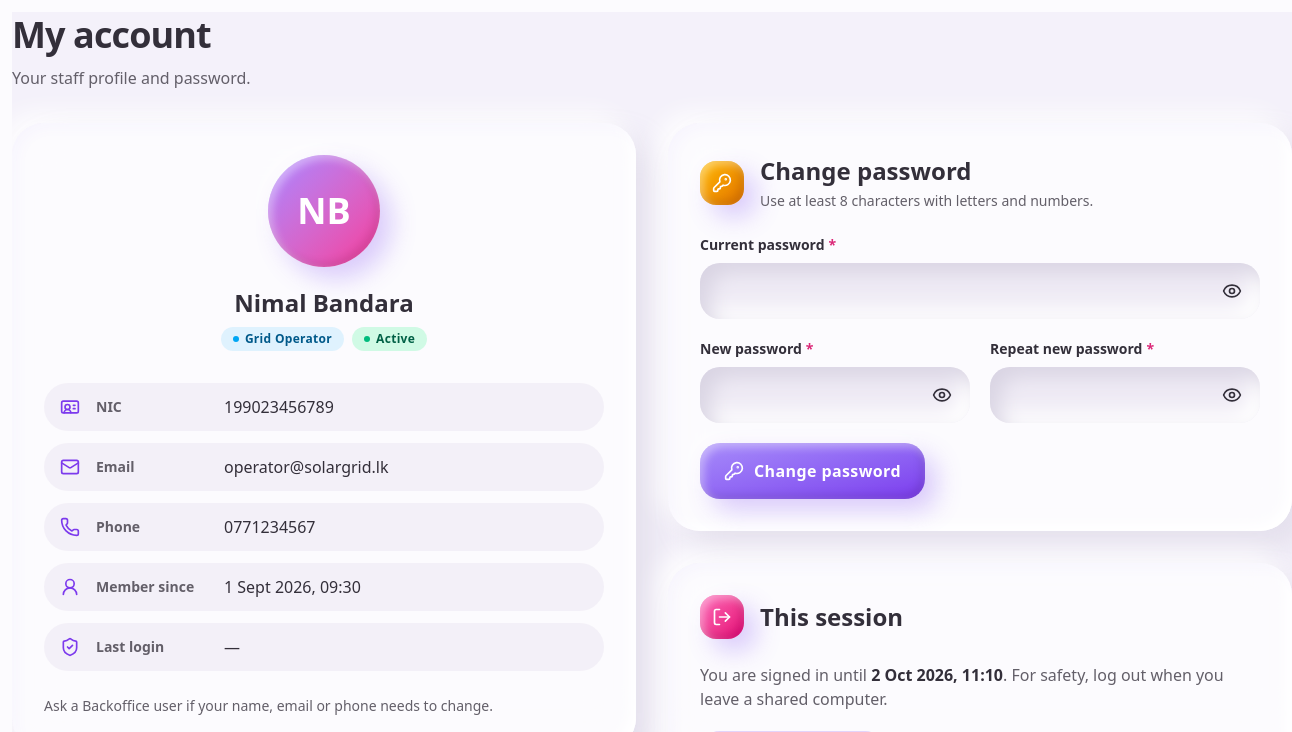
Scenario: AccountPage › shows the API message for a wrong current password
Type "wrong" into the password field labelled "Current password" at (980, 291), box [700,263,1260,319]
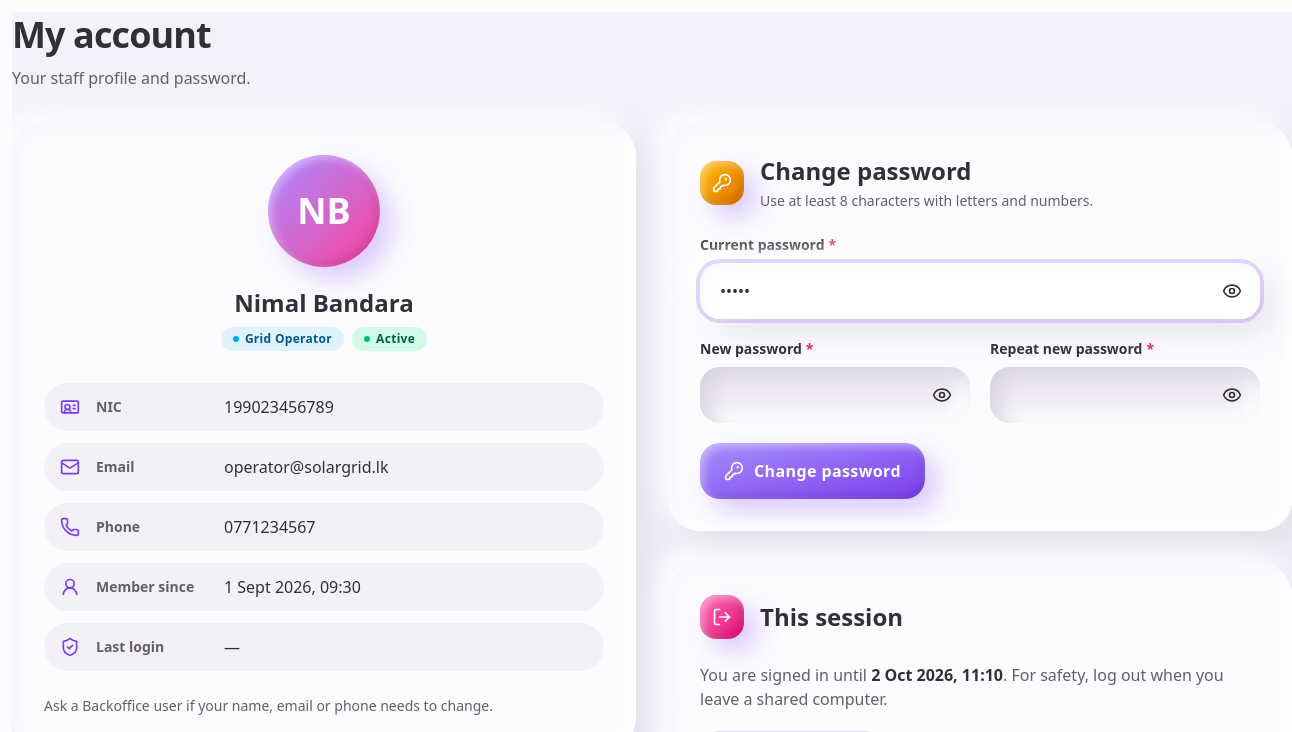
Type "Operator@456" into the password field labelled "New password" at (835, 395), box [700,367,970,423]
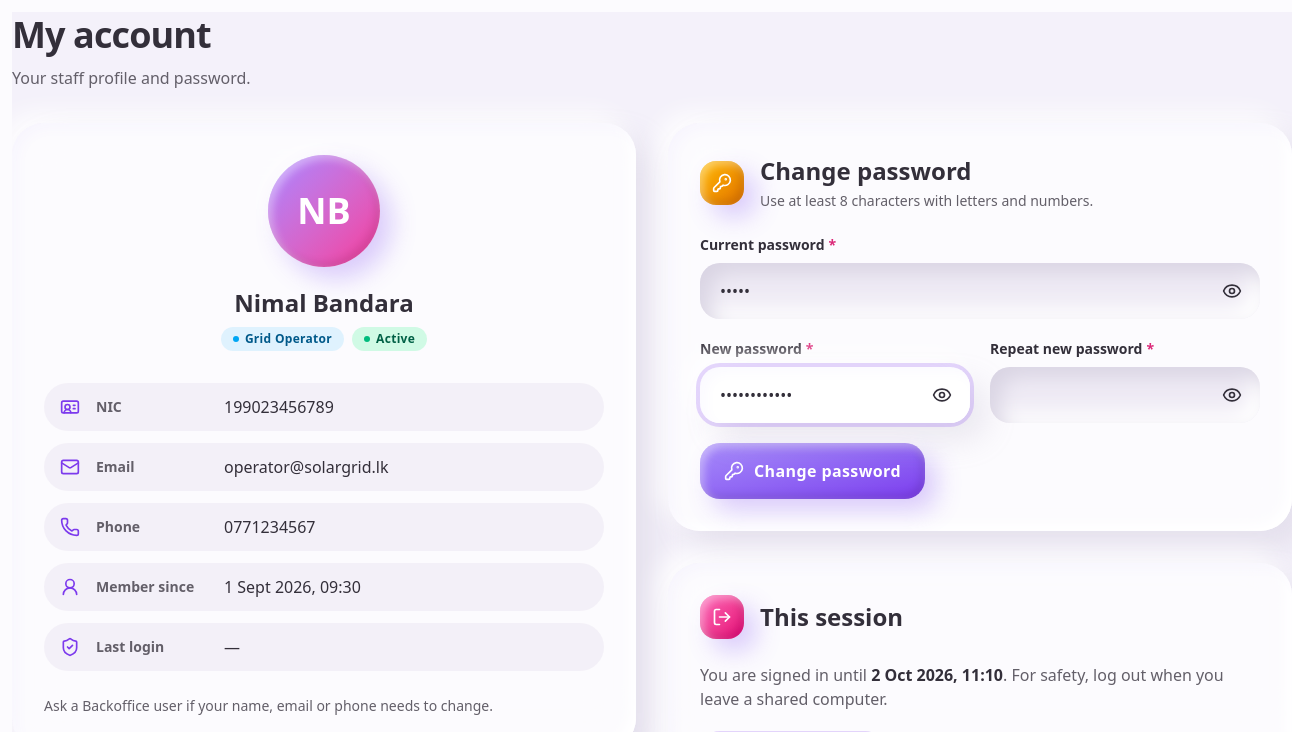
Type "Operator@456" into the password field labelled "Repeat new password" at (1125, 395), box [990,367,1260,423]
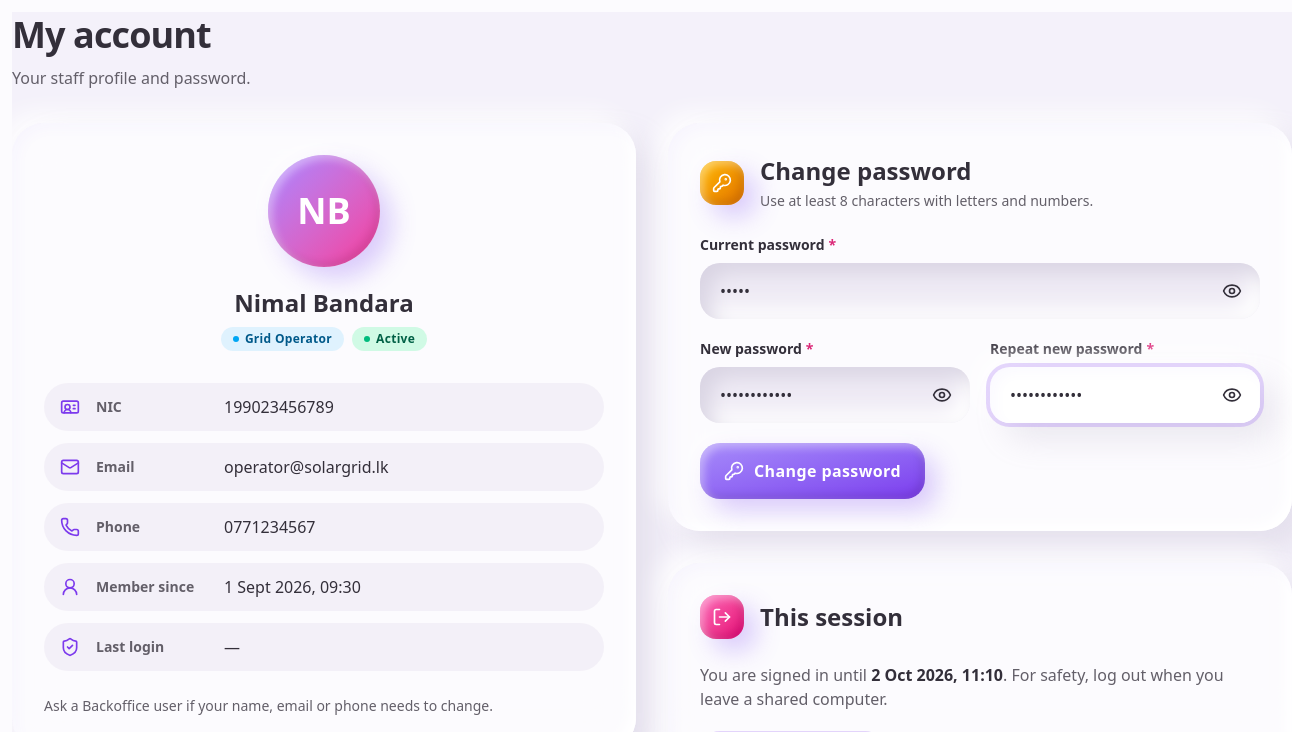
Click the button "Change password" at (812, 471), box [700,443,925,499]
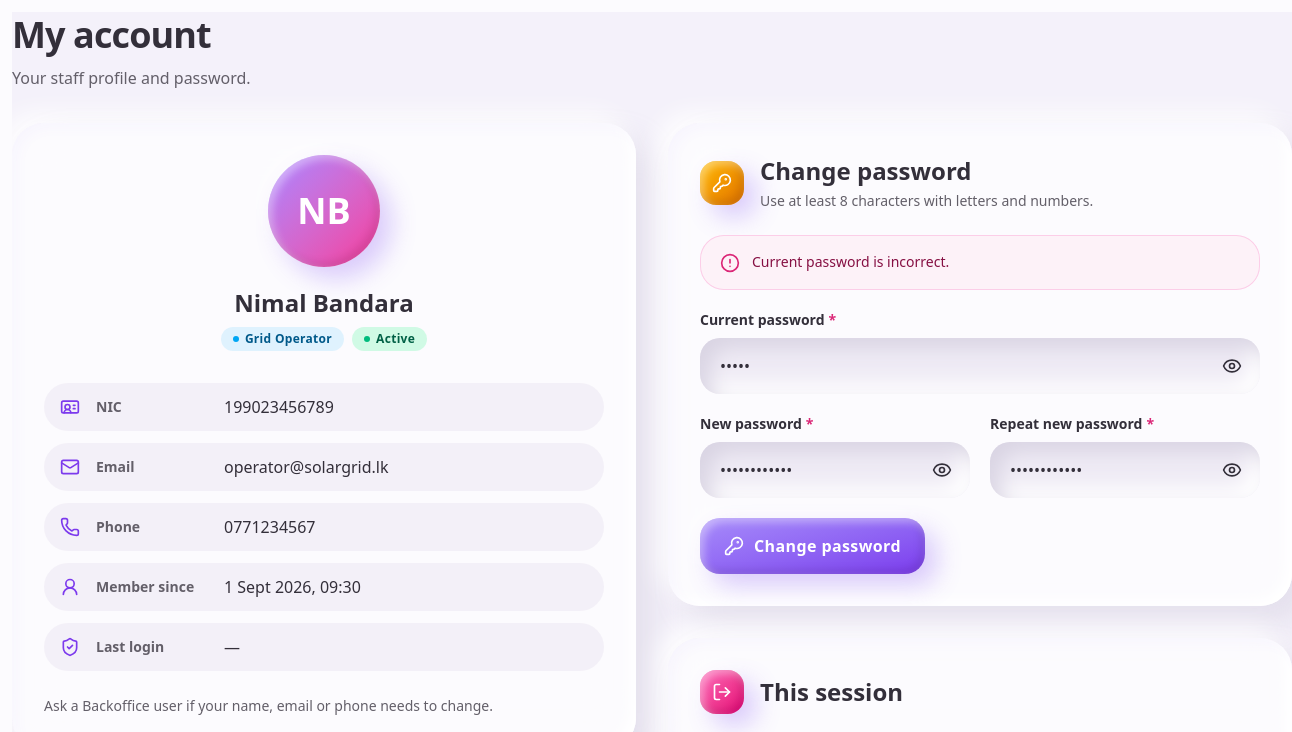
Now the message reads "Current password is incorrect.", box [752,252,949,271]
